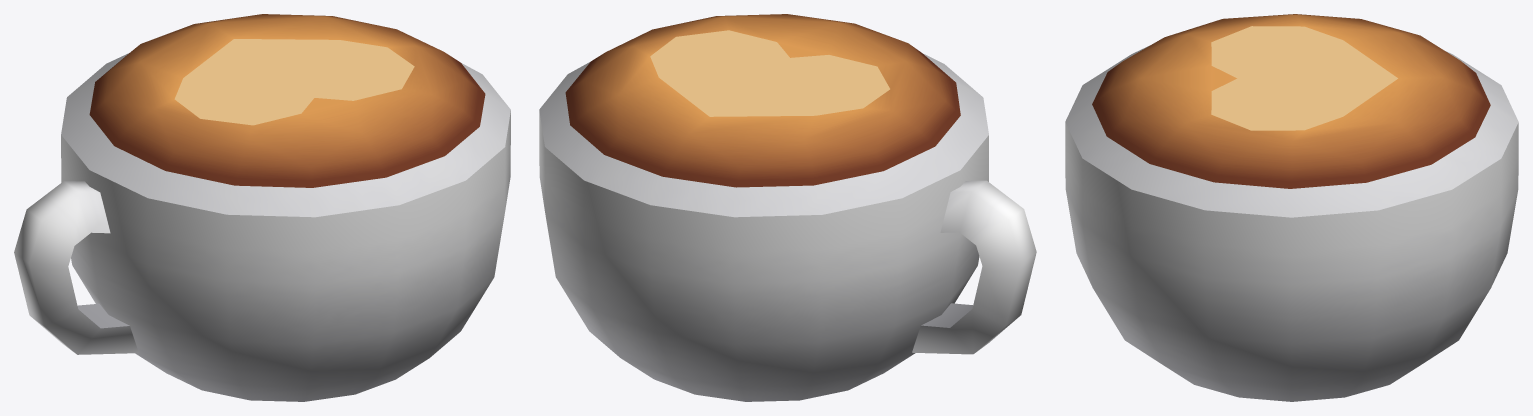
The model's file is m_Cup02_Coffee07.fbx.
The picture shows the model from 3 angles, left to right: view 1: azimuth 30°, elevation 25°; view 2: azimuth 150°, elevation 25°; view 3: azimuth 270°, elevation 25°; orthographic projection.
Visible parts, largest first — view 1: m_Cup02_Coffee07; view 2: m_Cup02_Coffee07; view 3: m_Cup02_Coffee07.
Boxes of the visible parts, x1,y1,x2,y2 form: m_Cup02_Coffee07: (14, 14, 510, 401); m_Cup02_Coffee07: (539, 14, 1036, 401); m_Cup02_Coffee07: (1065, 14, 1518, 401).
Size of the model in its own units: 14.87 by 8.19 by 12.68.
